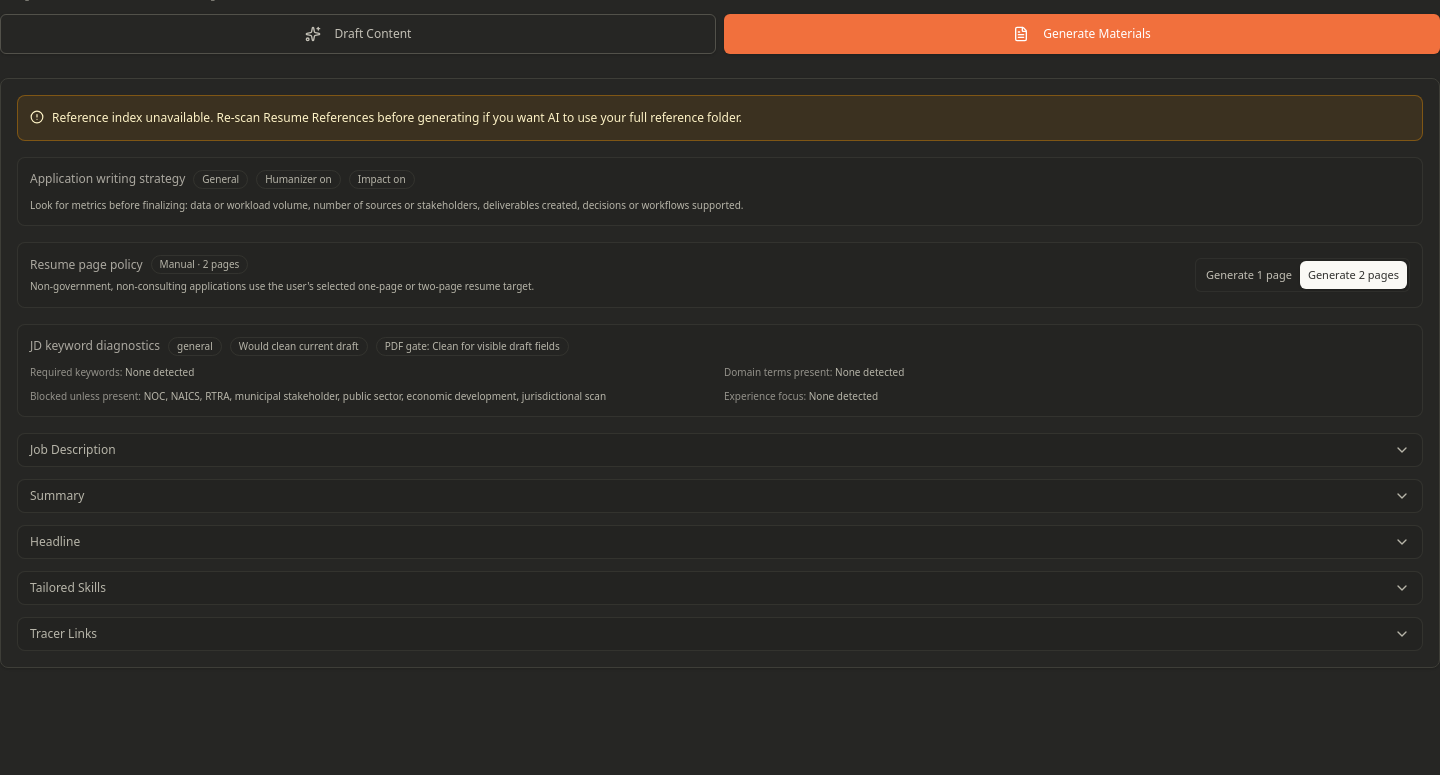
Test: TailoringEditor › hydrates headline and skills after AI summarize
Click the button "Draft Content" at (358, 34), box [0,14,716,54]
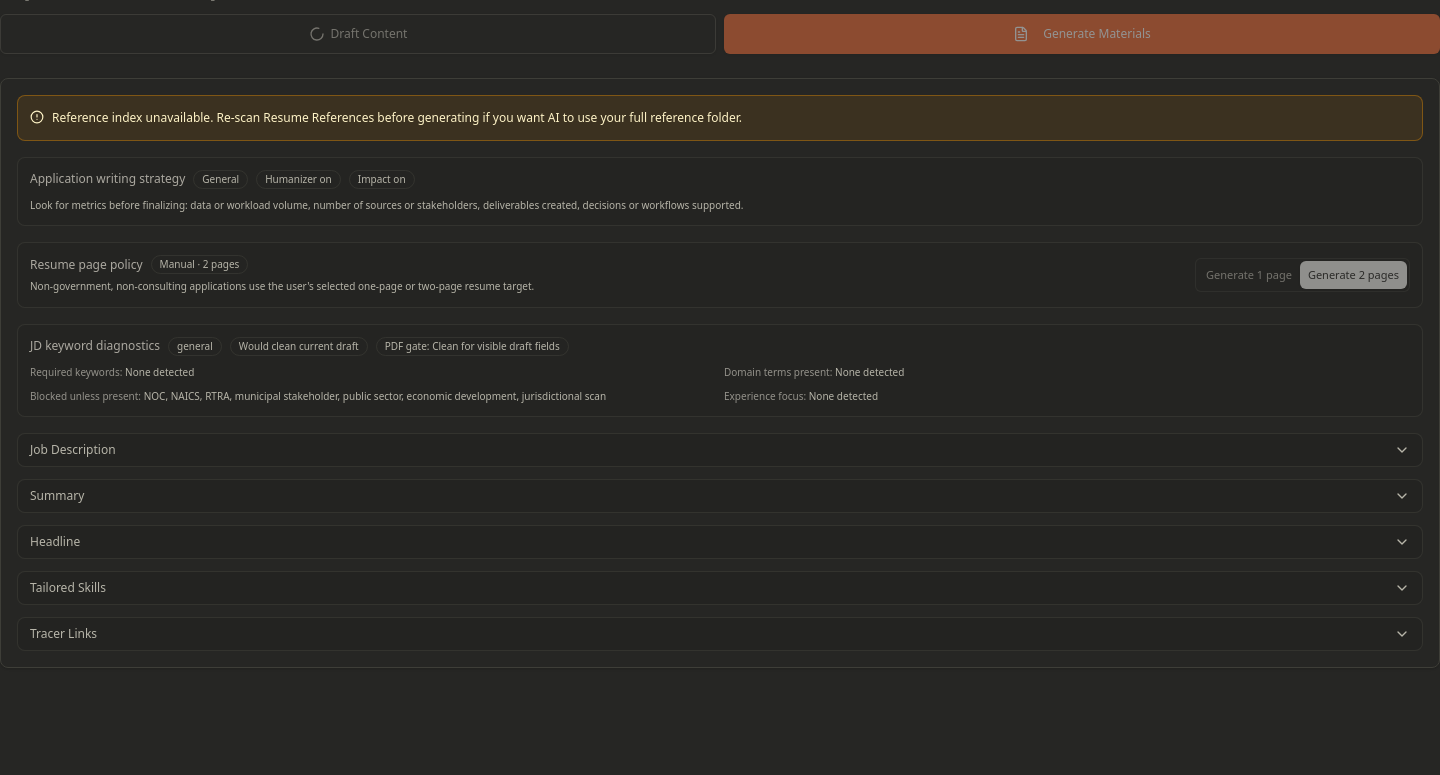
Click the button "Headline" at (55, 542), box [18,526,1422,558]
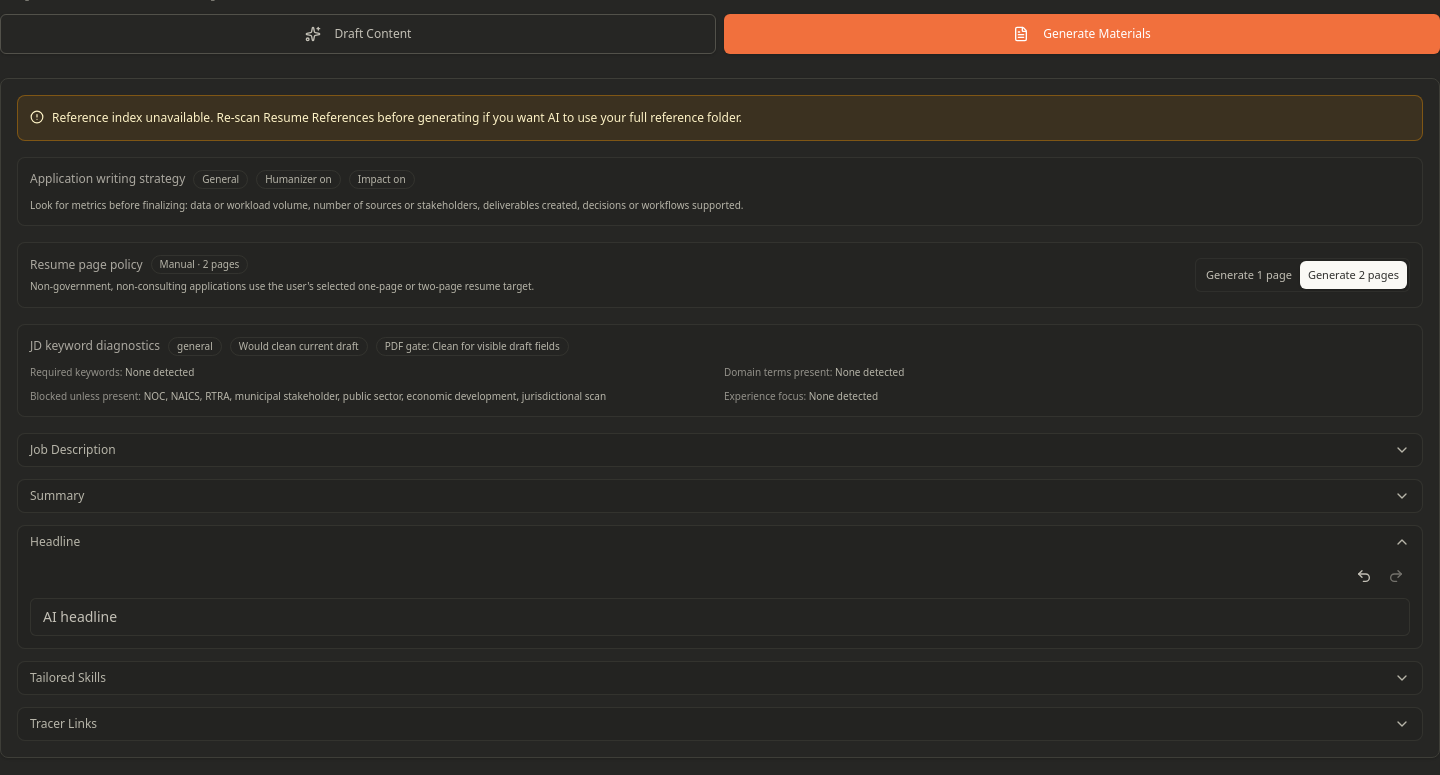
Check: the field named "Tailored Headline" holds "AI headline", box [30,598,1410,636]
Click the button "Tailored Skills" at (68, 678), box [18,662,1422,694]
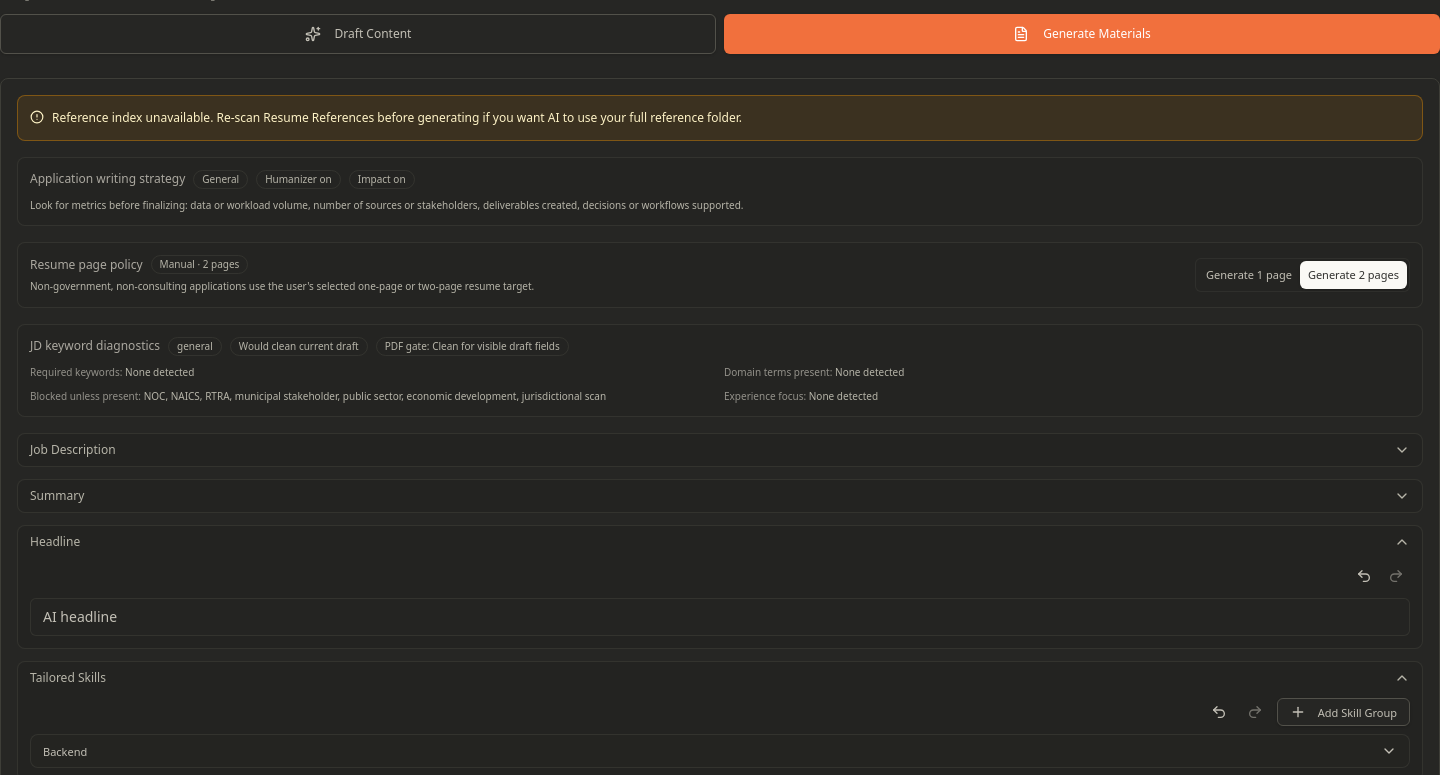
Click the button "Backend" at (65, 751), box [31,736,1409,768]
(page scrolled)
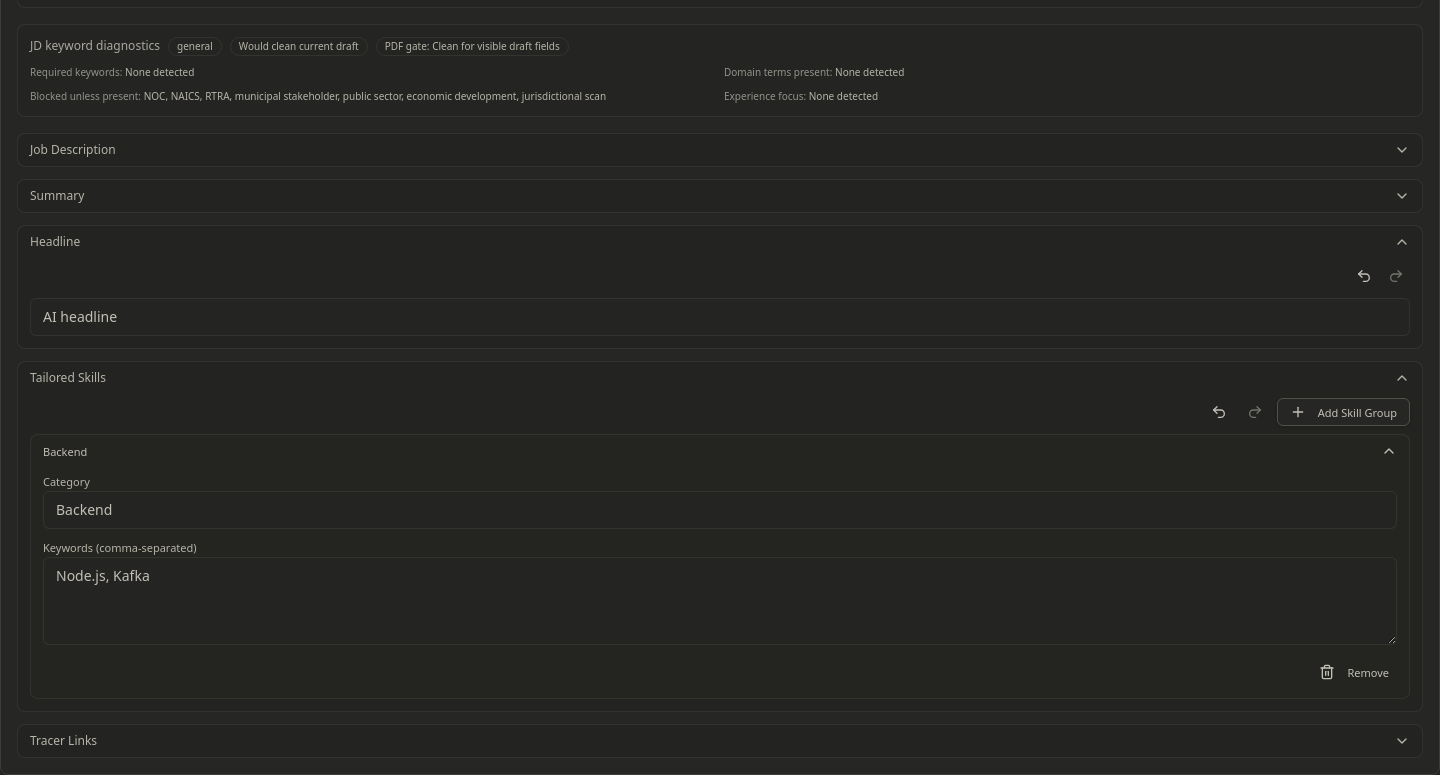
Check: the field showing "Backend" is shown, box [43,492,1397,530]
Check: the text box showing "Node.js, Kafka" is shown, box [43,558,1397,646]
